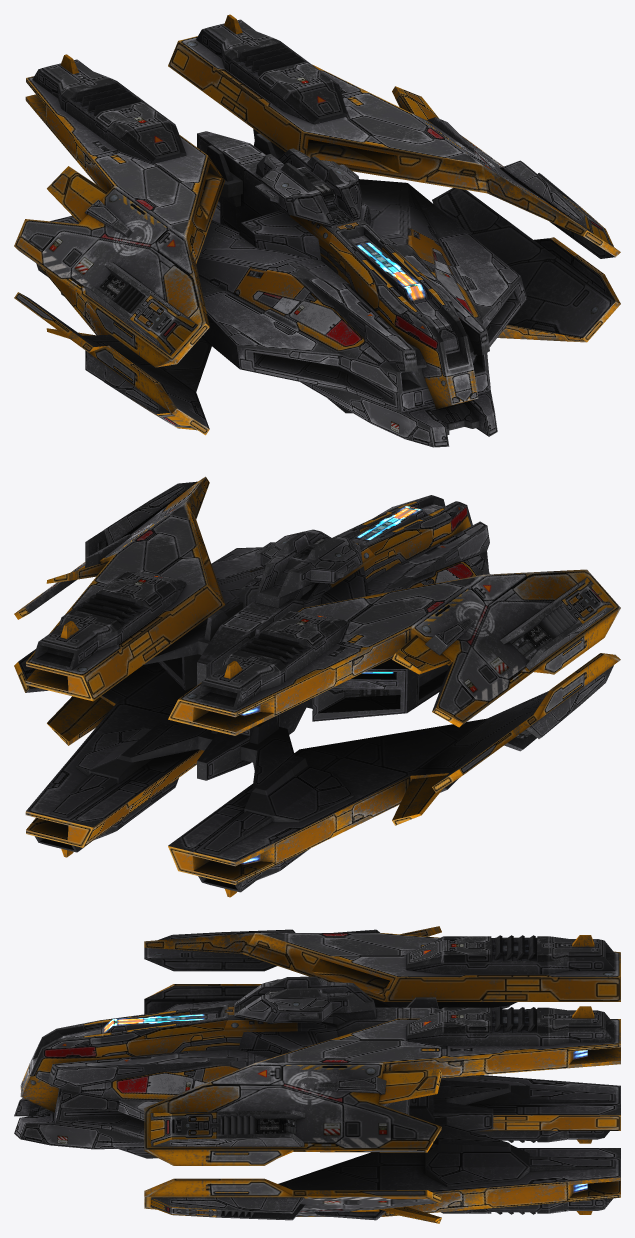
The model's file is free_sci_fi_fighter.glb.
The picture shows the model from 3 angles, top to bottom: view 1: azimuth 30°, elevation 25°; view 2: azimuth 150°, elevation 25°; view 3: azimuth 270°, elevation 25°; orthographic projection. The views are drawn at different scales.
Parts seen in each view (by area): view 1: Object_2; view 2: Object_2; view 3: Object_2.
Boxes of the visible parts, left/top/right/bottom form: Object_2: left=14, top=14, right=620, bottom=447; Object_2: left=14, top=476, right=620, bottom=897; Object_2: left=14, top=926, right=620, bottom=1223.
Size of the model in its own units: 15.44 by 7.48 by 19.82.
1 material, 1 textured.
